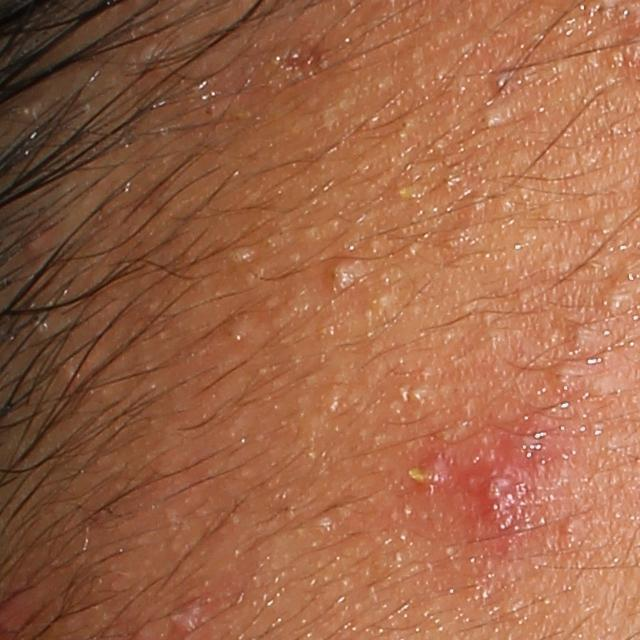comedo: (123, 30, 170, 77), (324, 250, 369, 297), (596, 282, 636, 319), (306, 507, 342, 544), (478, 98, 512, 132), (218, 243, 255, 273), (547, 358, 580, 391), (224, 310, 255, 344), (455, 193, 488, 224), (367, 286, 395, 320), (392, 170, 419, 204), (563, 319, 592, 348), (401, 383, 426, 413), (557, 518, 581, 537)
papule: (170, 596, 209, 637), (18, 224, 58, 260)
pustule: (472, 460, 537, 545), (406, 444, 462, 498)
